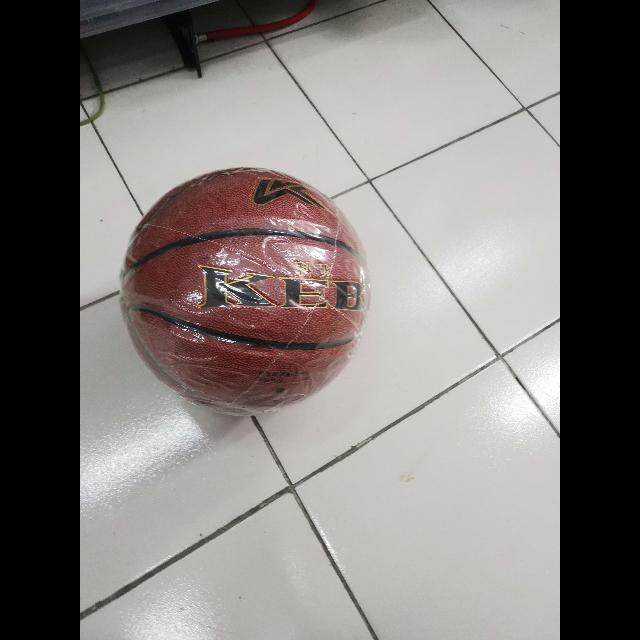basketball: (121, 168, 365, 416)
